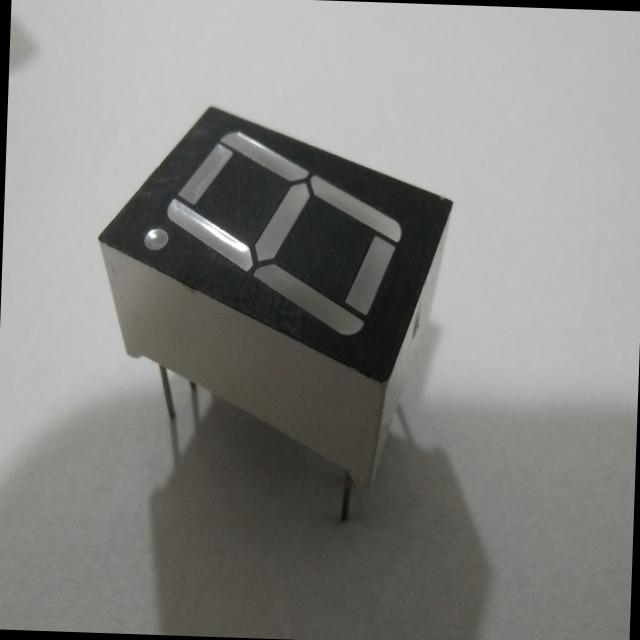7_segments: (75, 78, 480, 538)
